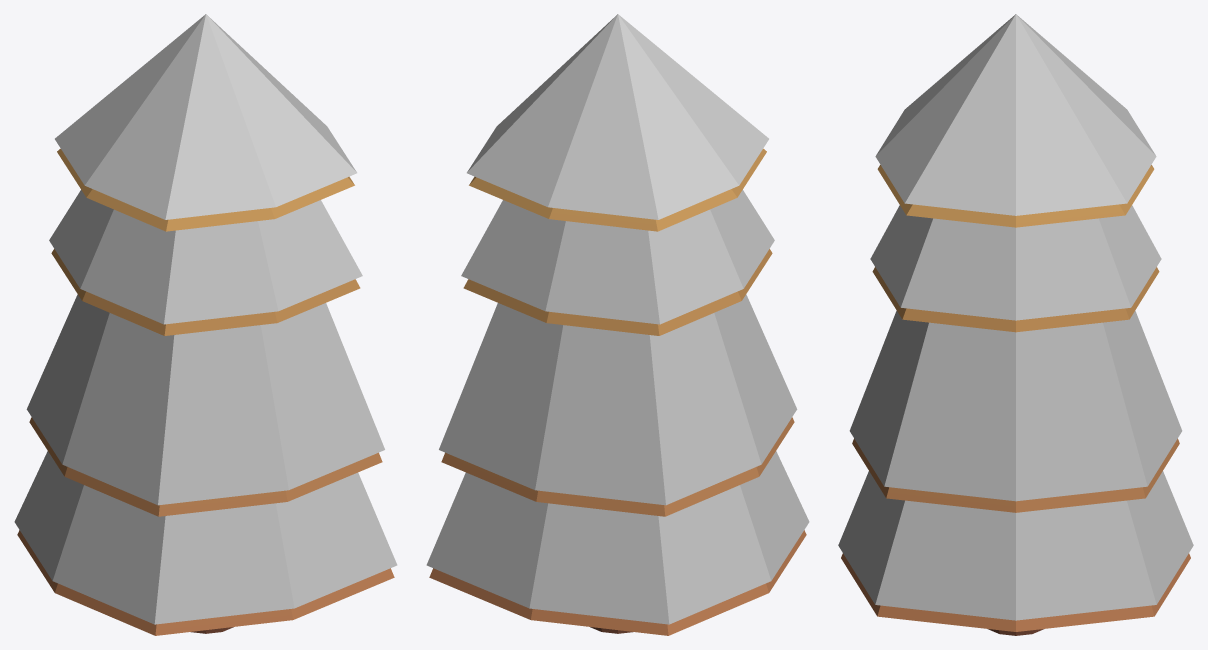
File: Tree_22_winter_gradient_yellow_vc.fbx
3 views of the same model, side by side, from view 1: azimuth 30°, elevation 25°; view 2: azimuth 150°, elevation 25°; view 3: azimuth 270°, elevation 25° (orthographic).
Parts seen in each view (by area): view 1: Tree_22_winter_gradient_yellow_vc; view 2: Tree_22_winter_gradient_yellow_vc; view 3: Tree_22_winter_gradient_yellow_vc.
Boxes of the visible parts, bbox=[...] form: Tree_22_winter_gradient_yellow_vc: bbox=[14, 14, 397, 635]; Tree_22_winter_gradient_yellow_vc: bbox=[426, 14, 809, 635]; Tree_22_winter_gradient_yellow_vc: bbox=[838, 14, 1193, 635].
Size of the model in its own units: 84.01 by 159 by 84.01.
